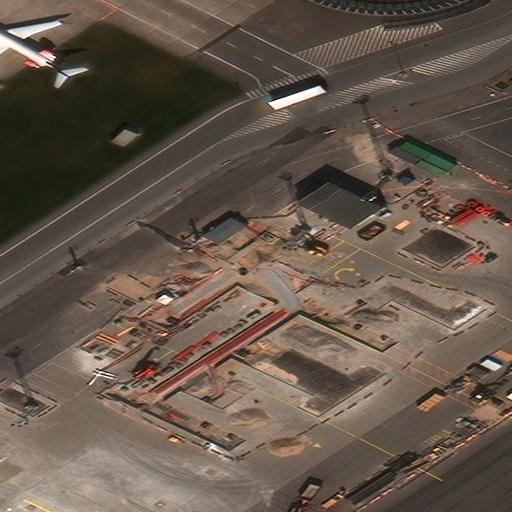Medium Civil Transport: (0, 10, 72, 79)
